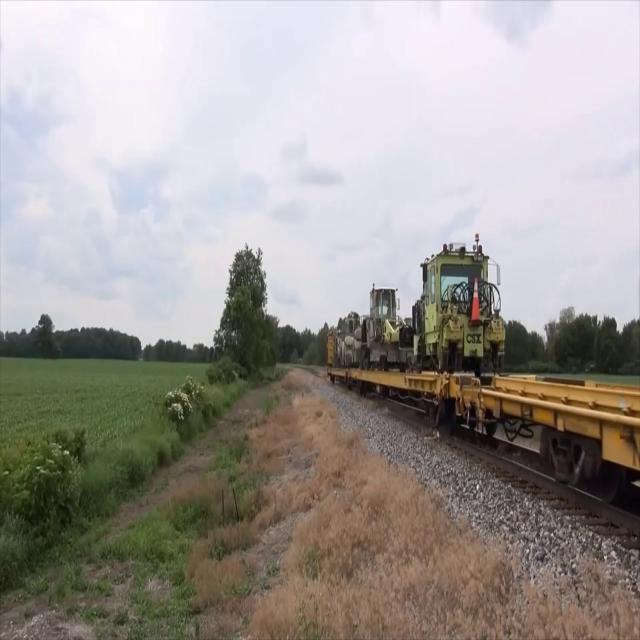cargo: (412, 233, 506, 376), (360, 272, 413, 370)
flatcar: (467, 364, 640, 505), (326, 362, 464, 439)
